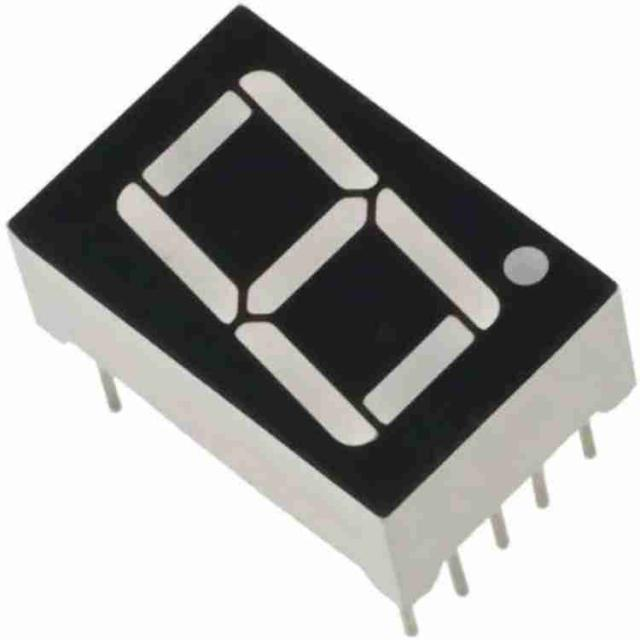Display: (10, 11, 630, 616)
